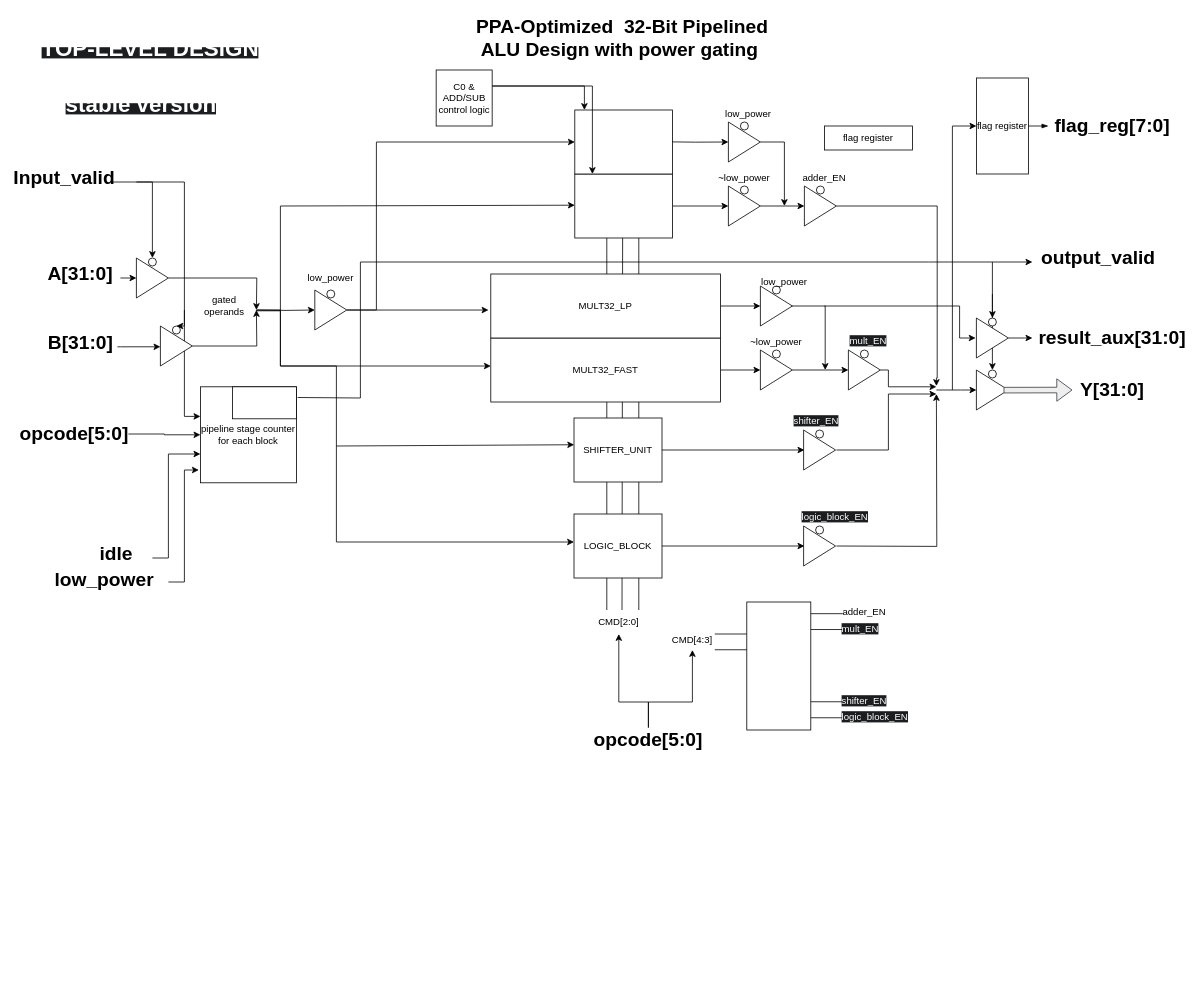
This 1200x1003 diagram has some shape labels left out. The box of each missing label's shape, as (x1, y1, x2, y2) in pixels:
2-4 DECODER: (746, 601, 811, 730)
ADDER32_FAST: (574, 173, 672, 238)
ADDER32_LP: (574, 109, 672, 174)
output_validity checker: (232, 386, 296, 419)
